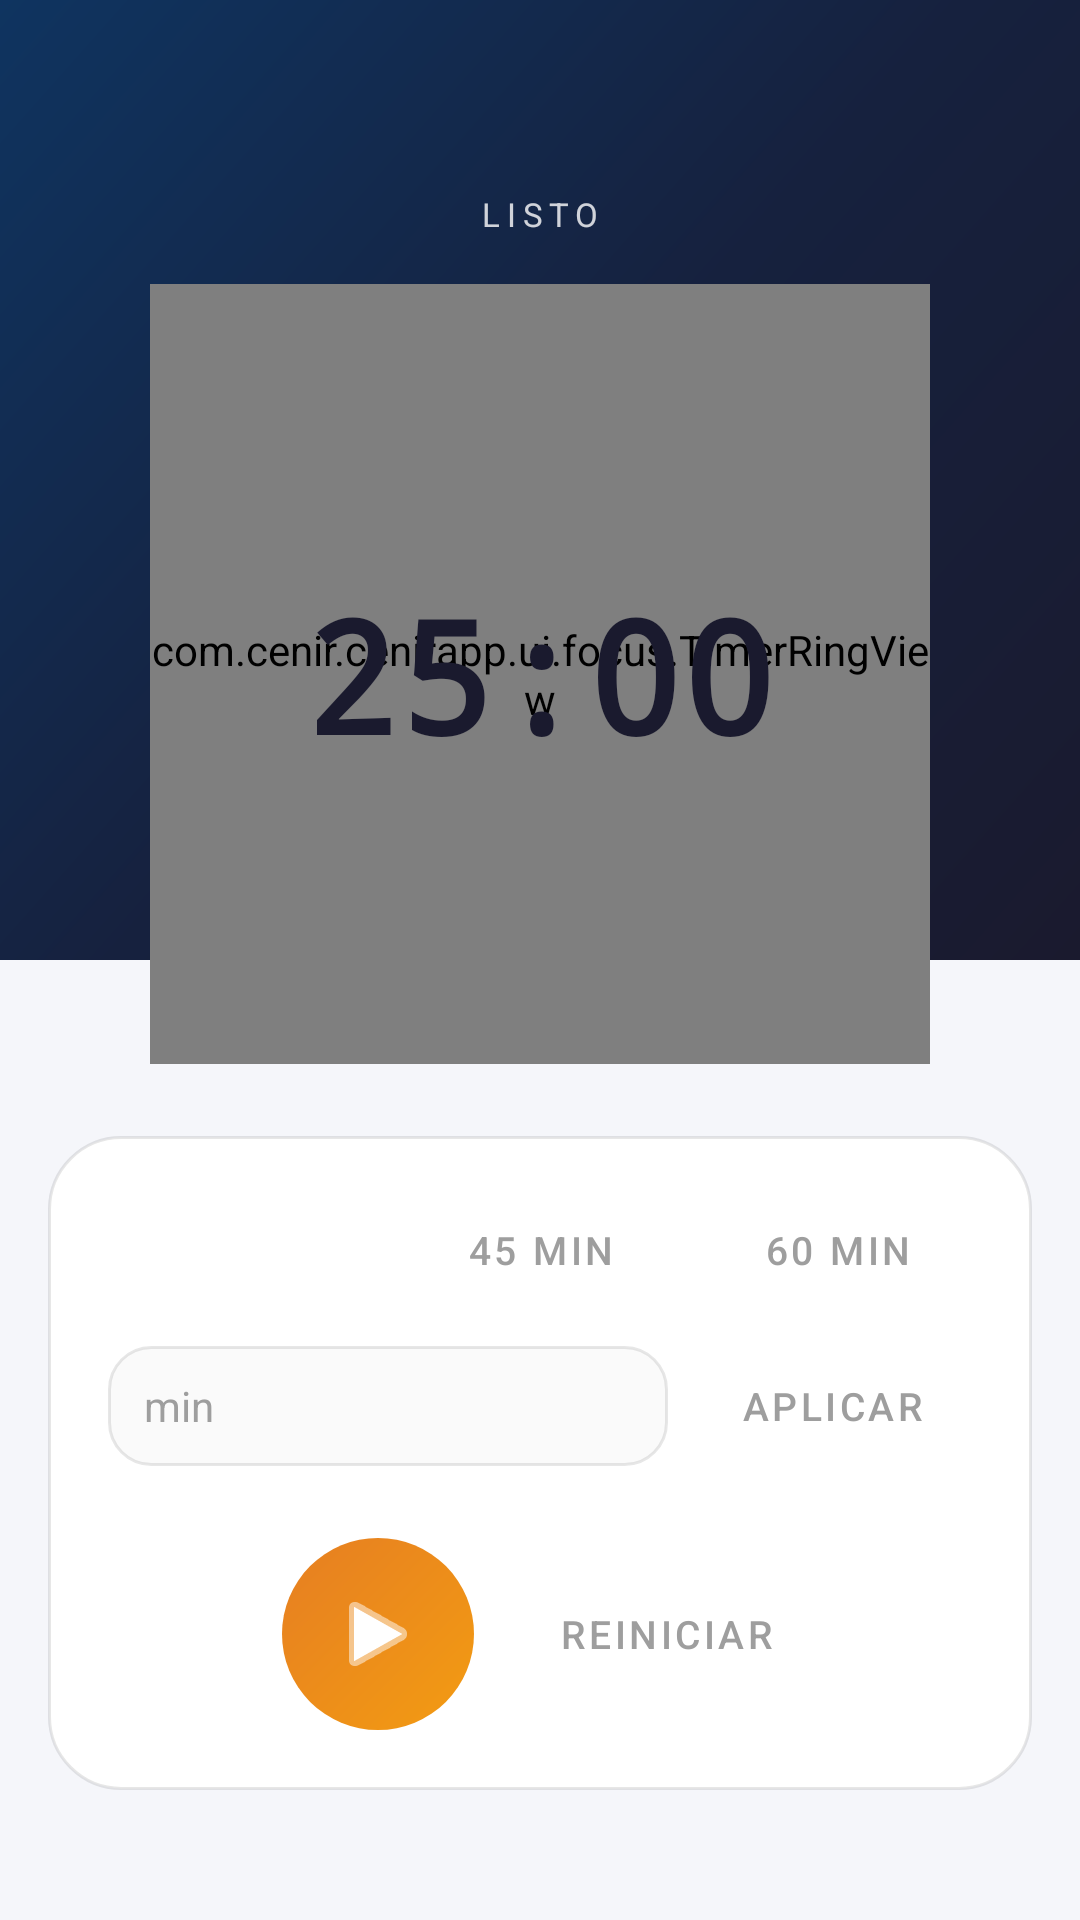

Point at icon controls on the screen. Image size 1080*1920, points as point (x, y).
Play/Pause: point (378, 1634)
